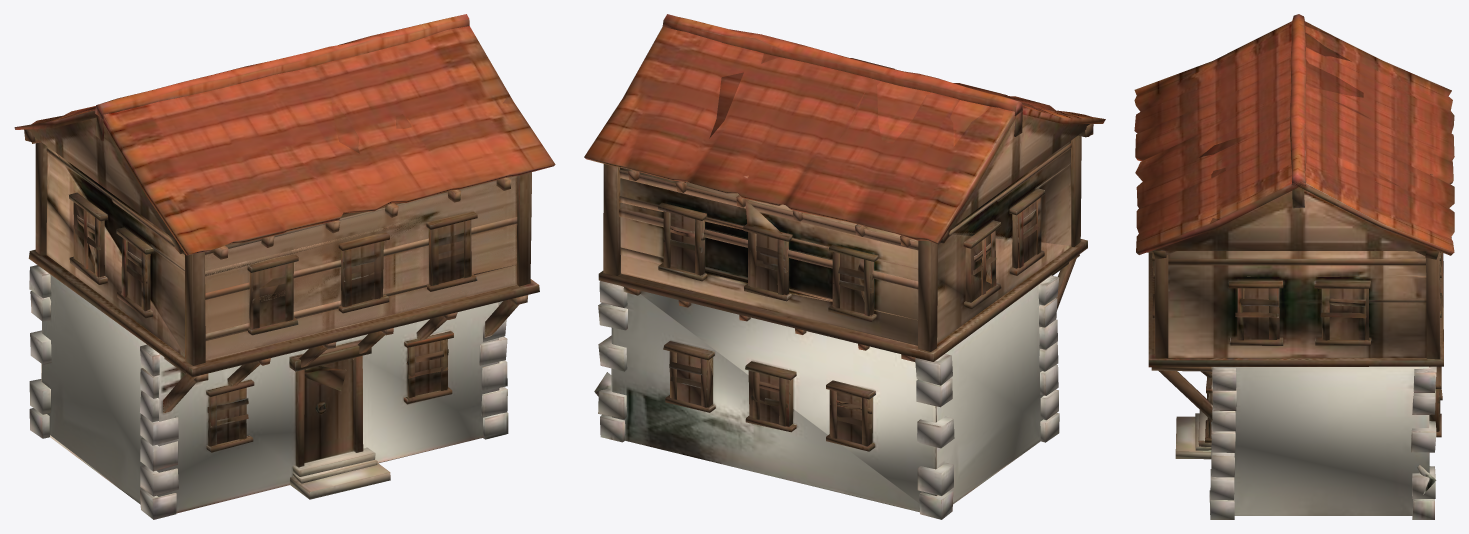
The model's file is timber-house.glb.
3 renders of one model, left to right at view 1: azimuth 30°, elevation 25°; view 2: azimuth 150°, elevation 25°; view 3: azimuth 270°, elevation 25°, orthographic. The views are drawn at different scales.
Parts seen in each view (by area): view 1: mesh_node; view 2: mesh_node; view 3: mesh_node.
Boxes of the visible parts, x1,y1,x2,y2 form: mesh_node: (14,14,555,519); mesh_node: (584,14,1105,519); mesh_node: (1134,14,1454,519).
Bounding box in the file's own units: 9.5 × 9.5 × 7.9.
Materials: 1 (1 with a texture image).
